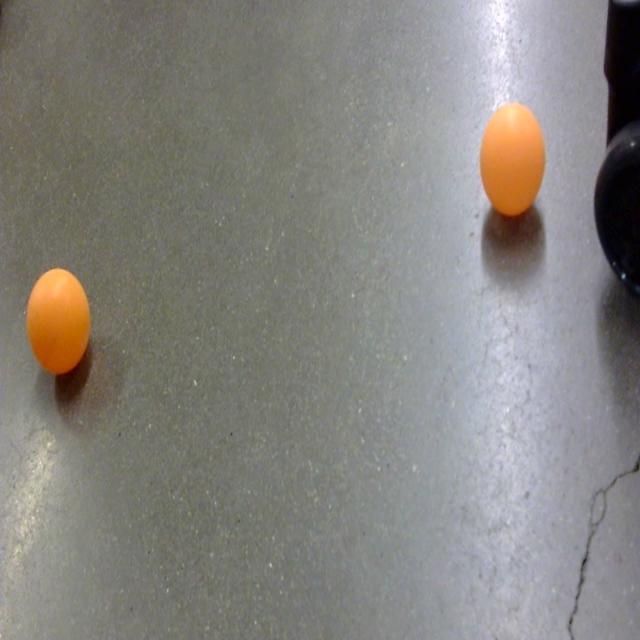ball: (476, 101, 546, 227), (25, 268, 92, 379)
